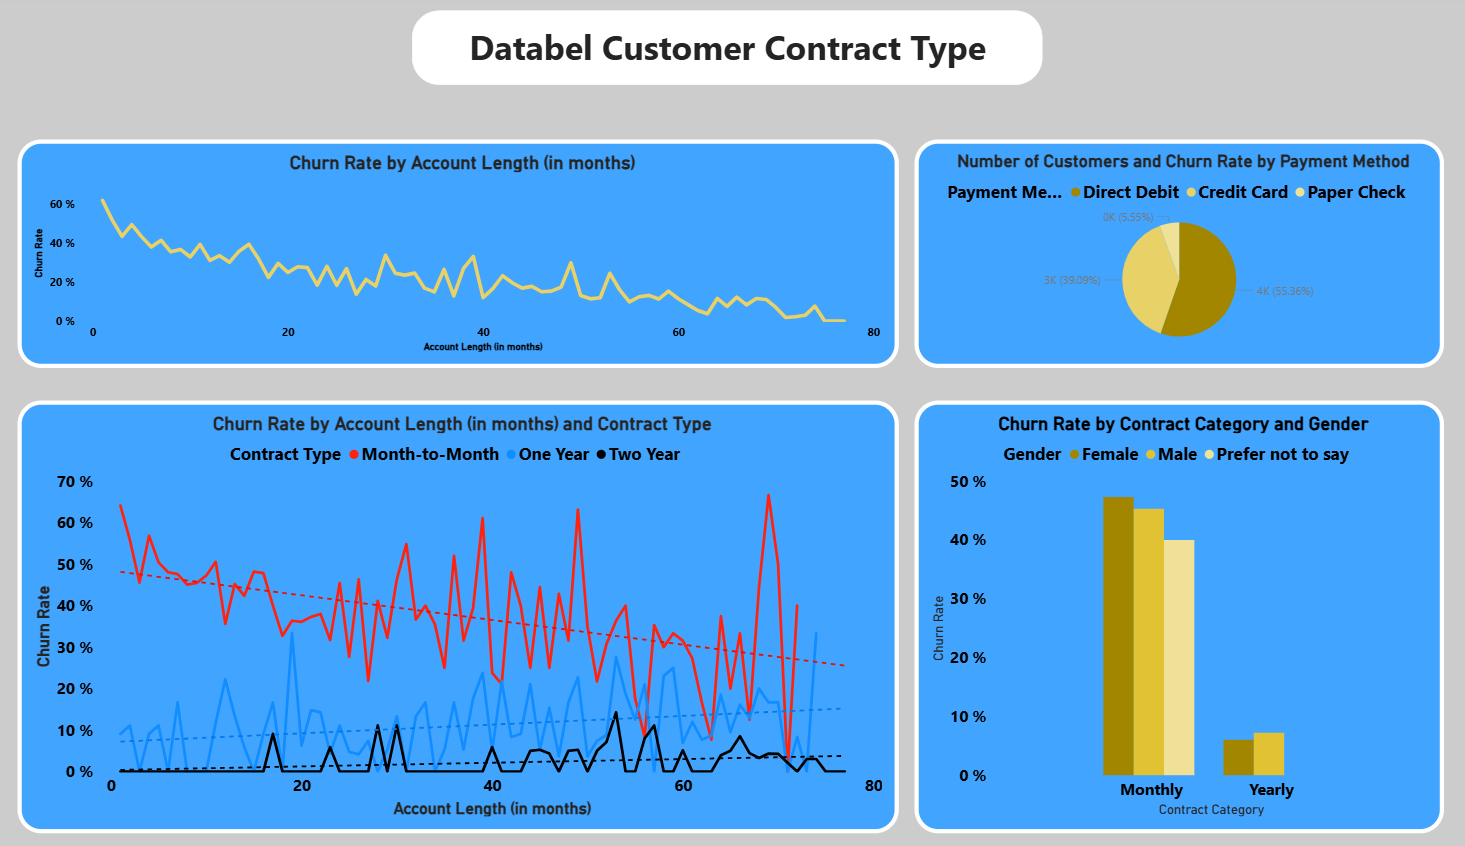

The dashboard page shown, as its layout file describes it:
{"tool":"powerbi","page":{"name":"Contract Type","canvas":[1640,960],"ordinal":2},"visuals":[{"type":"lineChart","fields":{"Y":["Databel - Data.Churn Rate"],"Category":["Databel - Data.Account Length (in months)"],"Series":["Databel - Data.Contract Type"]},"box":[34.9,448.2,972,477.3],"z":0},{"type":"lineChart","fields":{"Y":["Databel - Data.Churn Rate"],"Category":["Databel - Data.Account Length (in months)"]},"box":[34.9,161,972,252.2],"z":1000},{"type":"pieChart","fields":{"Category":["Databel - Data.Payment Method"],"Y":["Databel - Data.Number of Customers"]},"box":[1024.4,161,584,252.2],"z":2000},{"type":"textbox","box":[470,18.3,695,81.7],"z":3000},{"type":"clusteredColumnChart","fields":{"Y":["Databel - Data.Churn Rate"],"Category":["Databel - Data.Contract Category"],"Series":["Databel - Data.Gender"]},"box":[1024.4,448.2,584,477.3],"z":4000}]}

Visuals, with their boxes in screenshot pixels (x1, y1, x2, y2), scaled from the page's 1640x960 canvas onto the 1465x846 screenshot:
lineChart - Databel - Data.Churn Rate x Databel - Data.Account Length (in months): bbox=[31, 395, 899, 816]
lineChart - Databel - Data.Churn Rate x Databel - Data.Account Length (in months): bbox=[31, 142, 899, 364]
pieChart - Databel - Data.Payment Method x Databel - Data.Number of Customers: bbox=[915, 142, 1437, 364]
textbox: bbox=[420, 16, 1041, 88]
clusteredColumnChart - Databel - Data.Churn Rate x Databel - Data.Contract Category: bbox=[915, 395, 1437, 816]
